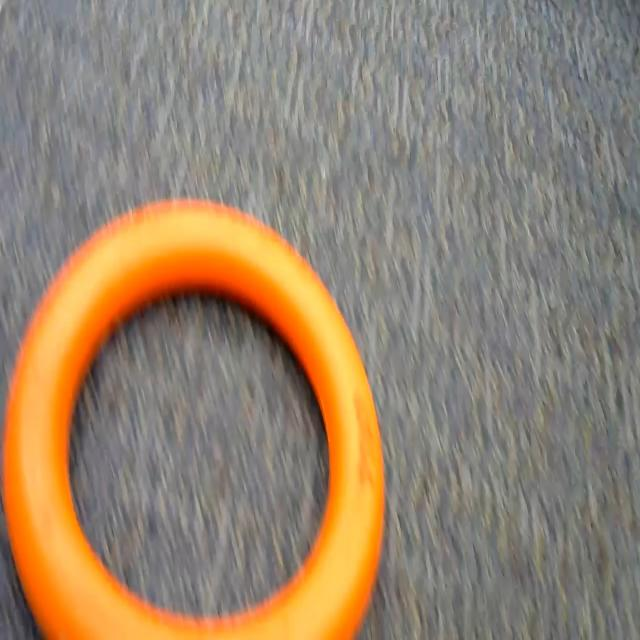note: (4, 192, 390, 640)
